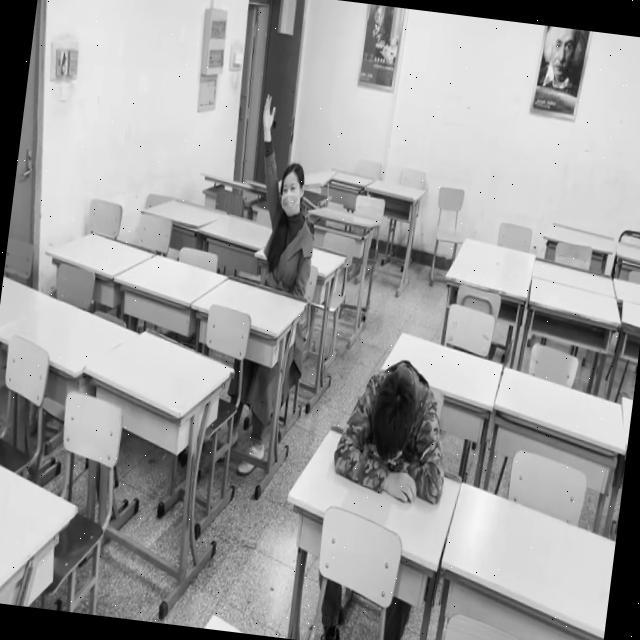sleep: (332, 355, 456, 506)
study: (238, 90, 331, 299)
